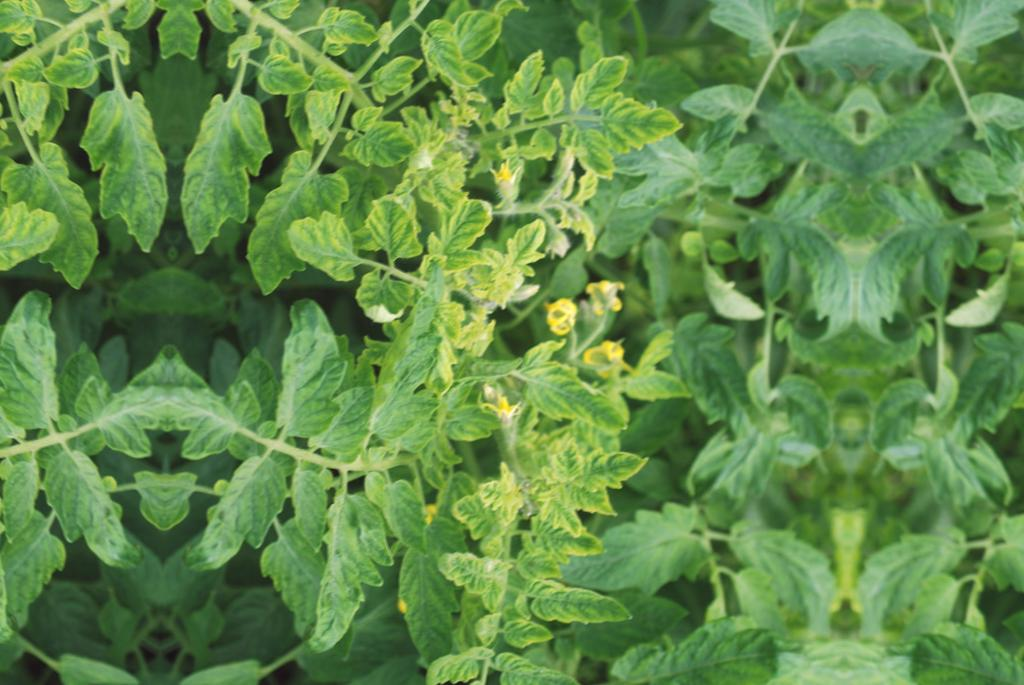Tomato leaf yellow virus: (247, 149, 358, 306), (178, 92, 269, 265), (357, 296, 455, 455), (189, 458, 284, 575), (275, 303, 349, 447), (517, 363, 633, 435), (593, 90, 684, 169), (440, 469, 528, 542), (338, 105, 422, 180), (528, 580, 640, 634), (282, 212, 358, 287), (422, 203, 497, 274), (560, 55, 632, 127), (379, 475, 433, 563), (363, 194, 427, 266), (570, 443, 653, 497), (413, 23, 477, 91), (354, 271, 415, 325), (432, 545, 495, 596), (501, 51, 548, 119), (367, 54, 425, 107), (441, 403, 503, 451), (427, 640, 493, 685), (251, 59, 315, 102), (319, 6, 383, 48), (512, 216, 551, 277), (263, 0, 309, 28)
